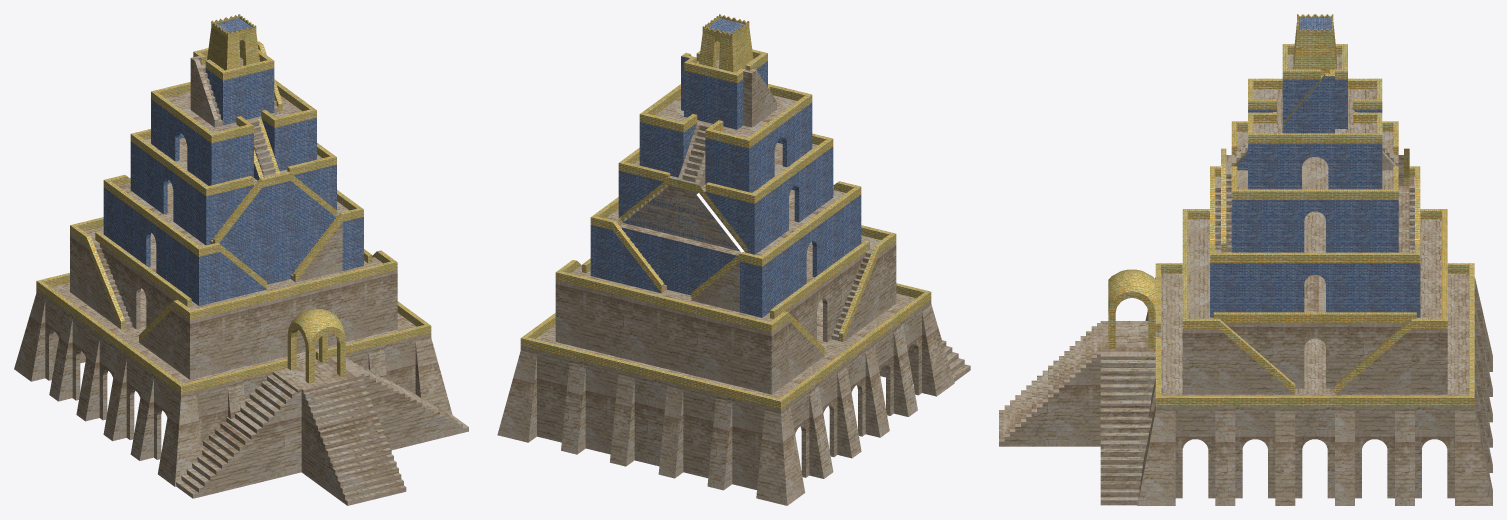
Rendered from sacred-shrine-3.glb.
The picture shows the model from 3 angles, left to right: view 1: azimuth 30°, elevation 25°; view 2: azimuth 150°, elevation 25°; view 3: azimuth 270°, elevation 25°; orthographic projection. The views are drawn at different scales.
Visible parts, largest first — view 1: Sacred-sacred-shrine-3-surface-0, Sacred-sacred-shrine-3-surface-2, Sacred-sacred-shrine-3-surface-1; view 2: Sacred-sacred-shrine-3-surface-0, Sacred-sacred-shrine-3-surface-2, Sacred-sacred-shrine-3-surface-1; view 3: Sacred-sacred-shrine-3-surface-0, Sacred-sacred-shrine-3-surface-1, Sacred-sacred-shrine-3-surface-2.
Part boxes in pixels (bbox=[...]): Sacred-sacred-shrine-3-surface-0: bbox=[14, 56, 468, 505]; Sacred-sacred-shrine-3-surface-2: bbox=[103, 18, 363, 305]; Sacred-sacred-shrine-3-surface-1: bbox=[36, 14, 431, 393]; Sacred-sacred-shrine-3-surface-0: bbox=[497, 59, 970, 505]; Sacred-sacred-shrine-3-surface-2: bbox=[590, 18, 861, 317]; Sacred-sacred-shrine-3-surface-1: bbox=[520, 14, 931, 409]; Sacred-sacred-shrine-3-surface-0: bbox=[999, 54, 1492, 505]; Sacred-sacred-shrine-3-surface-1: bbox=[1108, 14, 1474, 406]; Sacred-sacred-shrine-3-surface-2: bbox=[1210, 18, 1420, 317].
Size of the model in its own units: 3.74 by 4.75 by 5.2.
4 materials, 3 textured.
